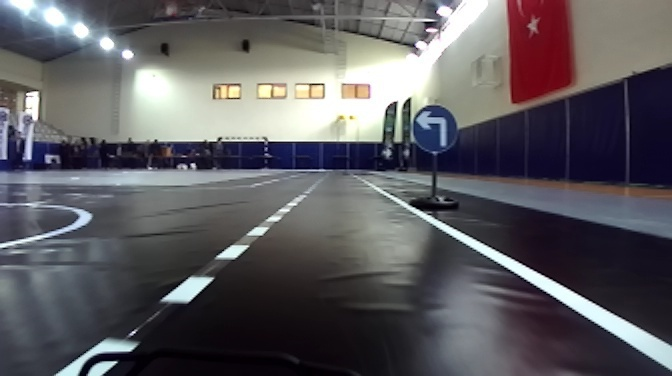sola_donus: (411, 107, 458, 151)
